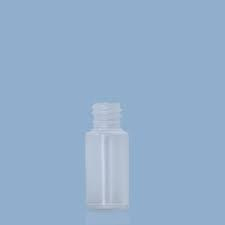Container for household chemicals: (69, 93, 145, 202)
